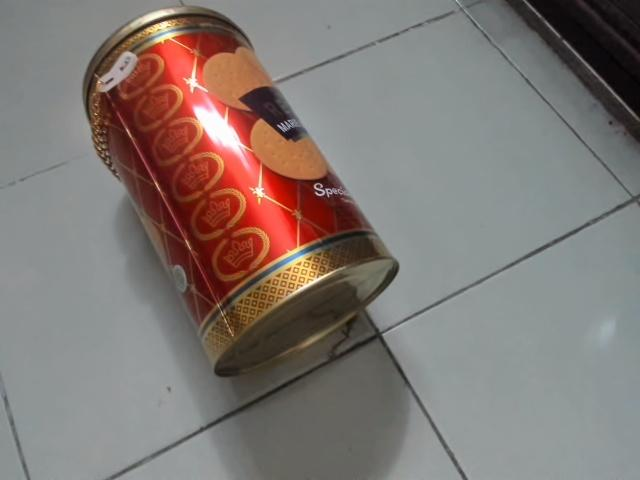anorganik: (76, 4, 406, 386)
